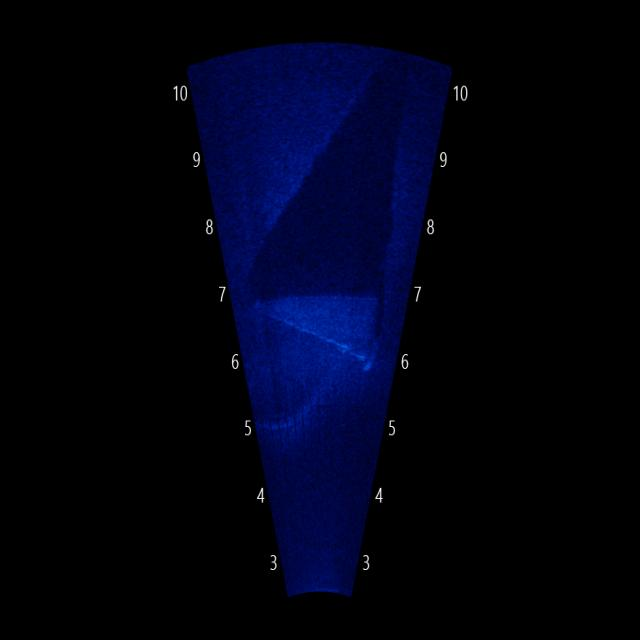triangle: (253, 260, 388, 386)
